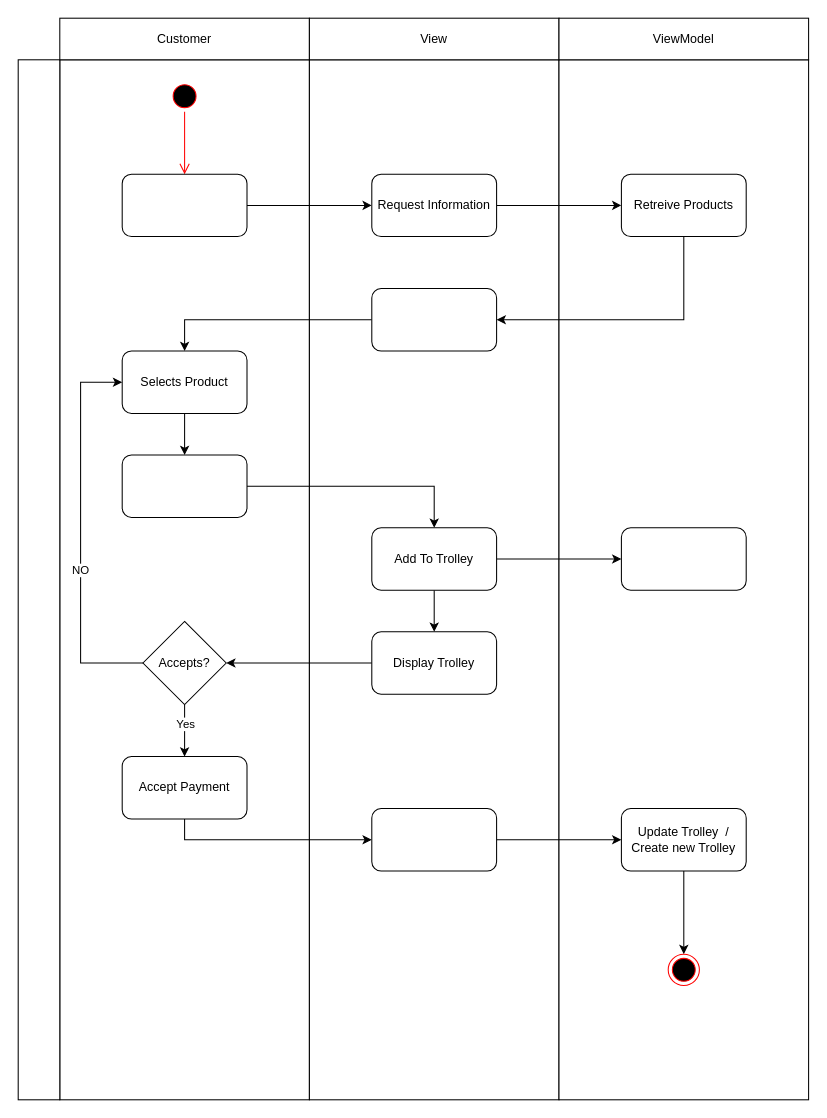
Some shapes in this 827 by 1118 pixel diagram are drawn without their labels. Here are the shapes that lost their labels. From the top down, the centre of each, then its label:
At point (184, 205): "Join Market Place Page".
At point (434, 319): "Display Information available Products".
At point (184, 485): "Types quantity".
At point (683, 558): "Update Trolley".
At point (434, 839): "Updates Trolley".
